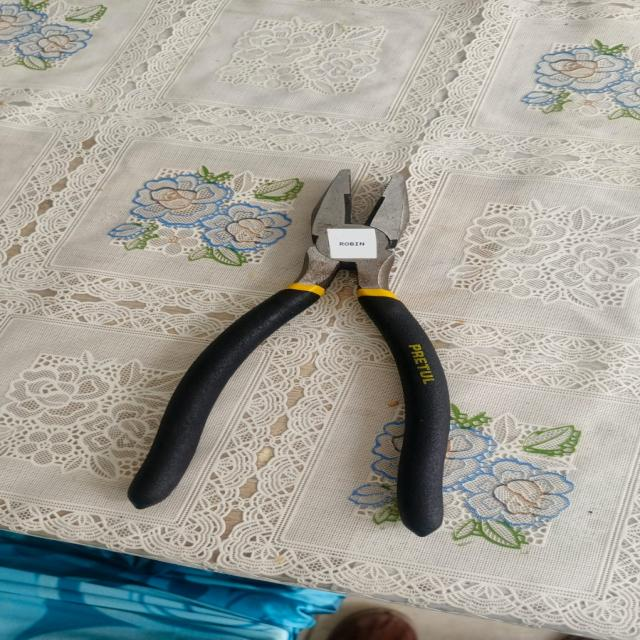alicate: (150, 159, 468, 547)
